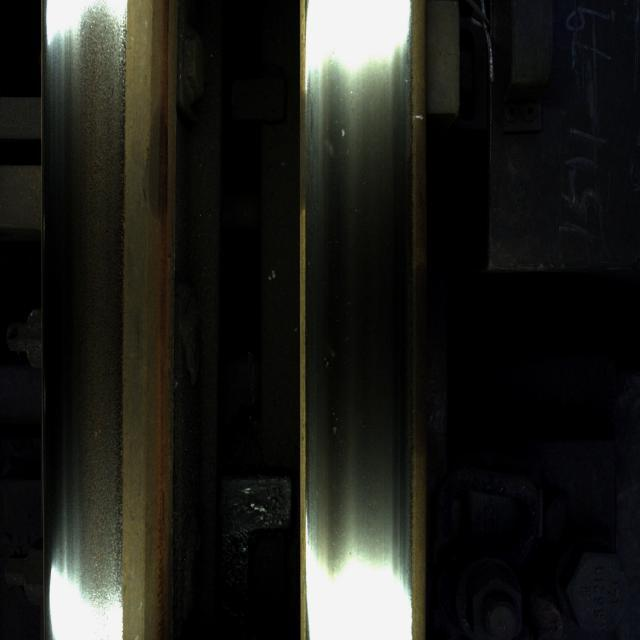break: (316, 59, 395, 575), (58, 26, 124, 499)
